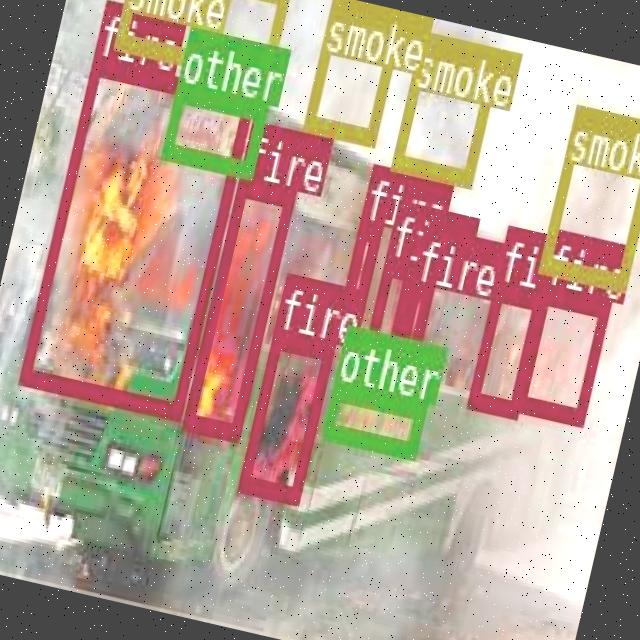fire: (18, 55, 252, 418), (180, 176, 295, 438), (235, 328, 332, 501), (512, 283, 610, 422), (466, 280, 544, 413), (360, 255, 415, 375), (338, 220, 381, 312), (391, 282, 432, 376)
smoke: (537, 102, 640, 287), (390, 29, 500, 182), (302, 0, 404, 144), (112, 0, 290, 82)
